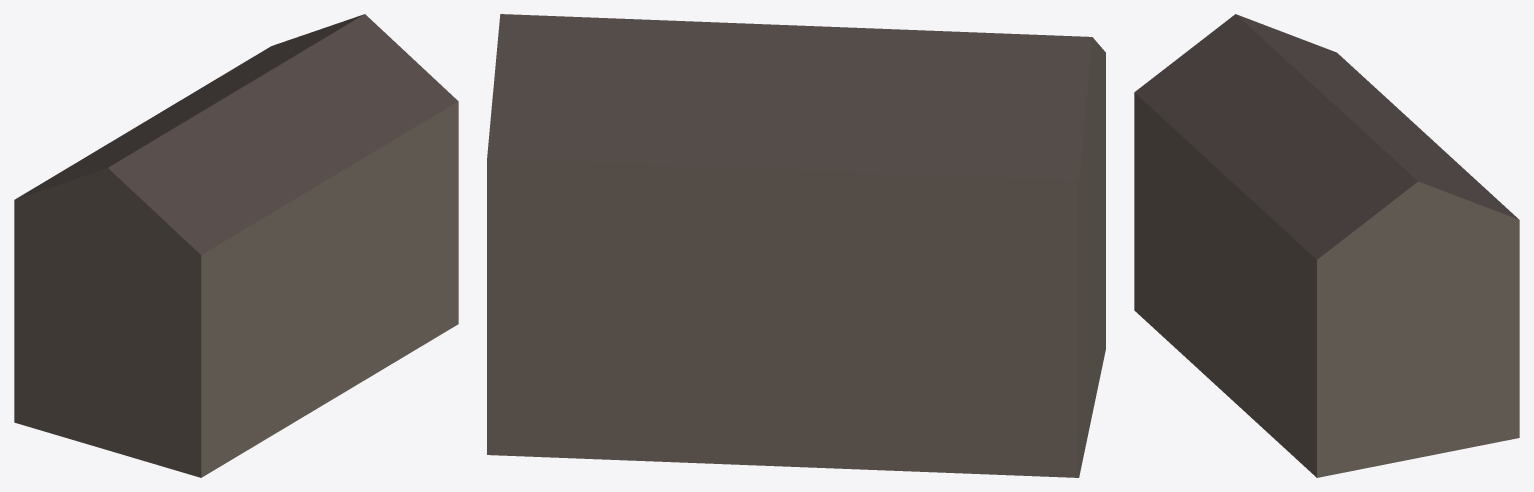
3 renders of one model, left to right at view 1: azimuth 30°, elevation 25°; view 2: azimuth 150°, elevation 25°; view 3: azimuth 270°, elevation 25°, orthographic. The views are drawn at different scales.
Visible parts, largest first — view 1: HP-w408450742; view 2: HP-w408450742; view 3: HP-w408450742.
Part boxes in pixels (<box>): HP-w408450742: <box>14,14,458,477</box>; HP-w408450742: <box>487,14,1105,477</box>; HP-w408450742: <box>1134,14,1519,477</box>.
Bounding box in the file's own units: 12.24 × 7.61 × 9.61.
